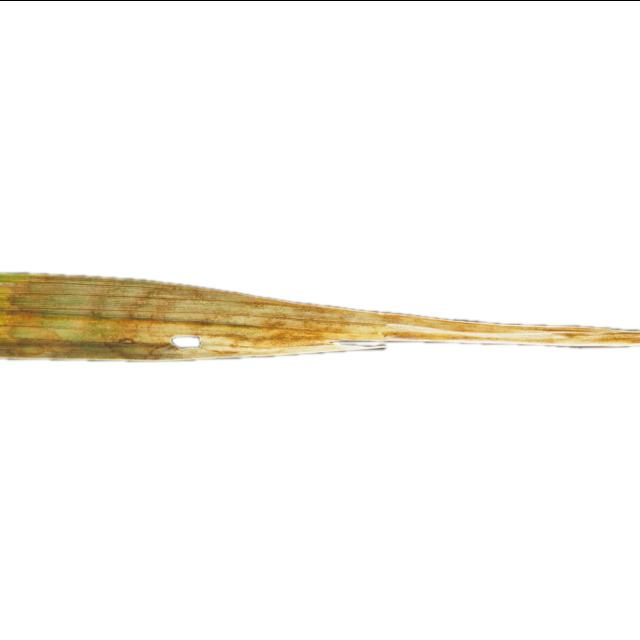Leaf scald: (0, 190, 640, 435)
